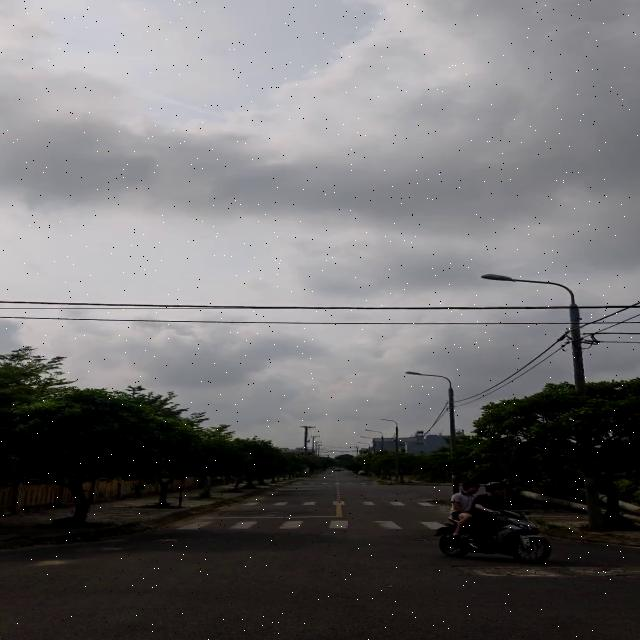helmet: (485, 479, 506, 497)
no_helmet: (463, 481, 482, 497)
